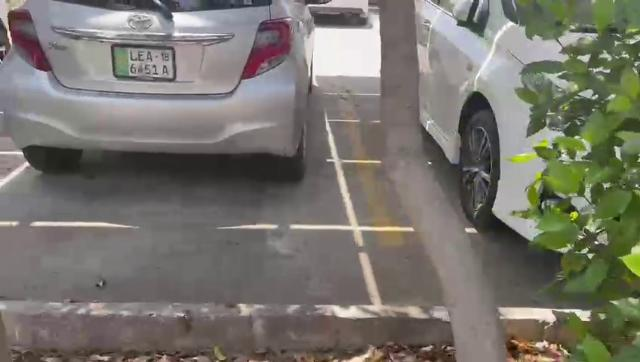plate: (112, 46, 175, 80)
